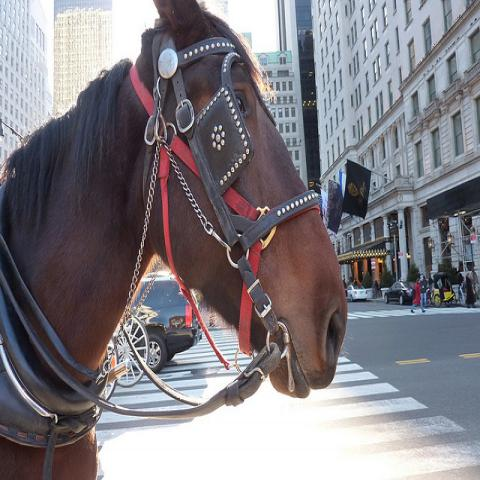car: (133, 273, 202, 372), (384, 280, 415, 304), (346, 283, 373, 302)
